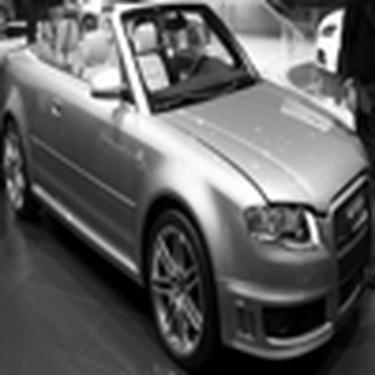car: (11, 9, 373, 372), (301, 5, 356, 80)
